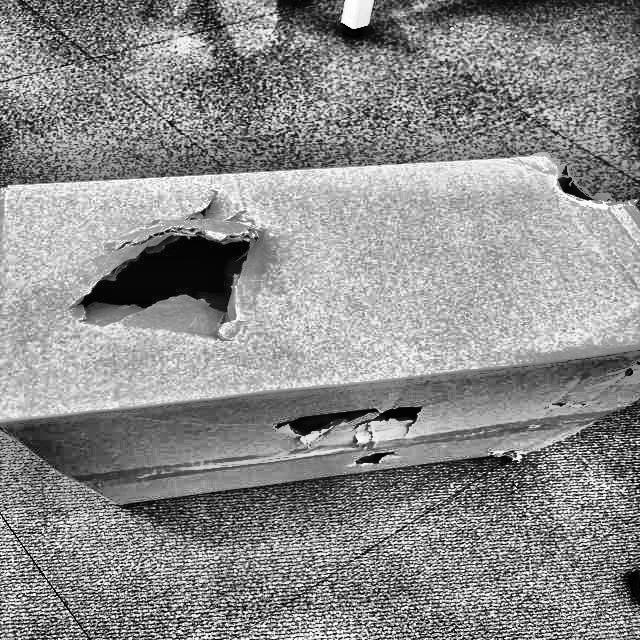box: (0, 122, 640, 511)
hole: (71, 191, 245, 329), (258, 409, 429, 445), (528, 159, 639, 209), (356, 450, 401, 470)
